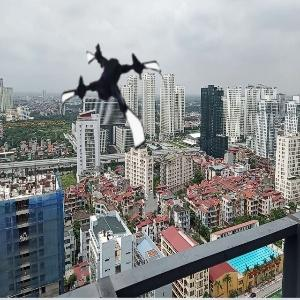drone: (57, 40, 173, 156)
